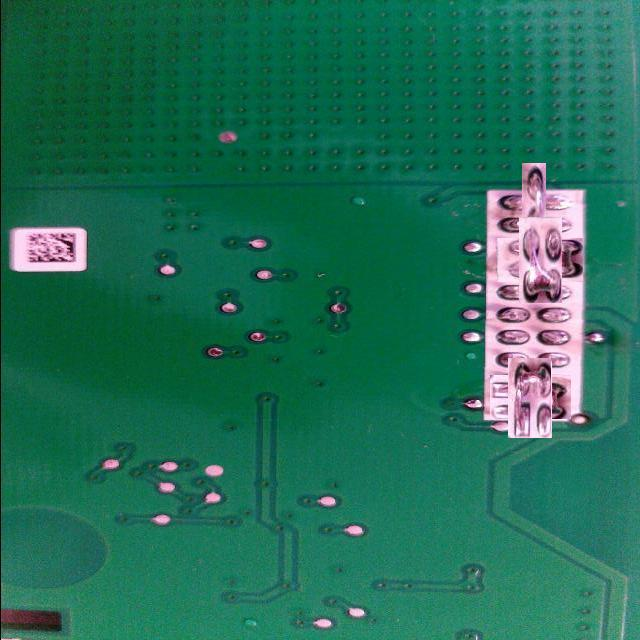Short_circuit: (508, 227, 572, 293), (499, 366, 562, 429), (508, 177, 560, 230)
